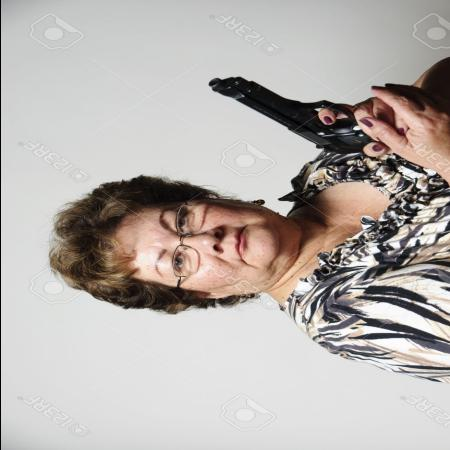Pistol: (202, 74, 394, 158)
